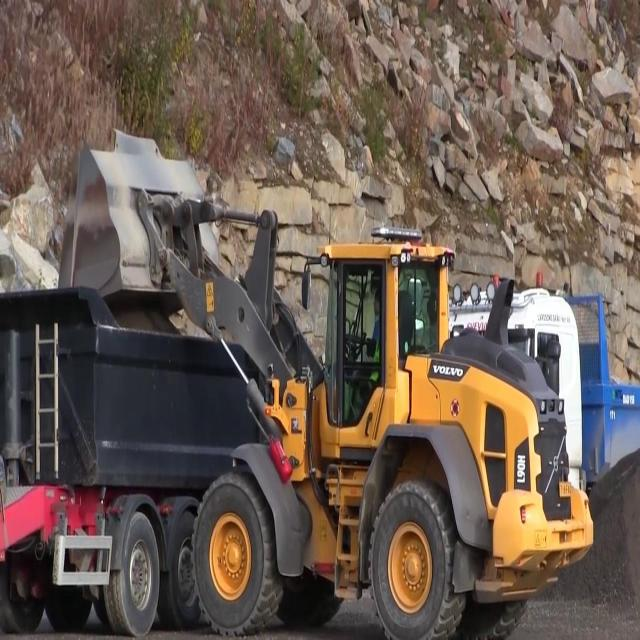Dump Truck: (0, 284, 212, 639), (451, 282, 639, 489)
Loader: (58, 122, 596, 639)
